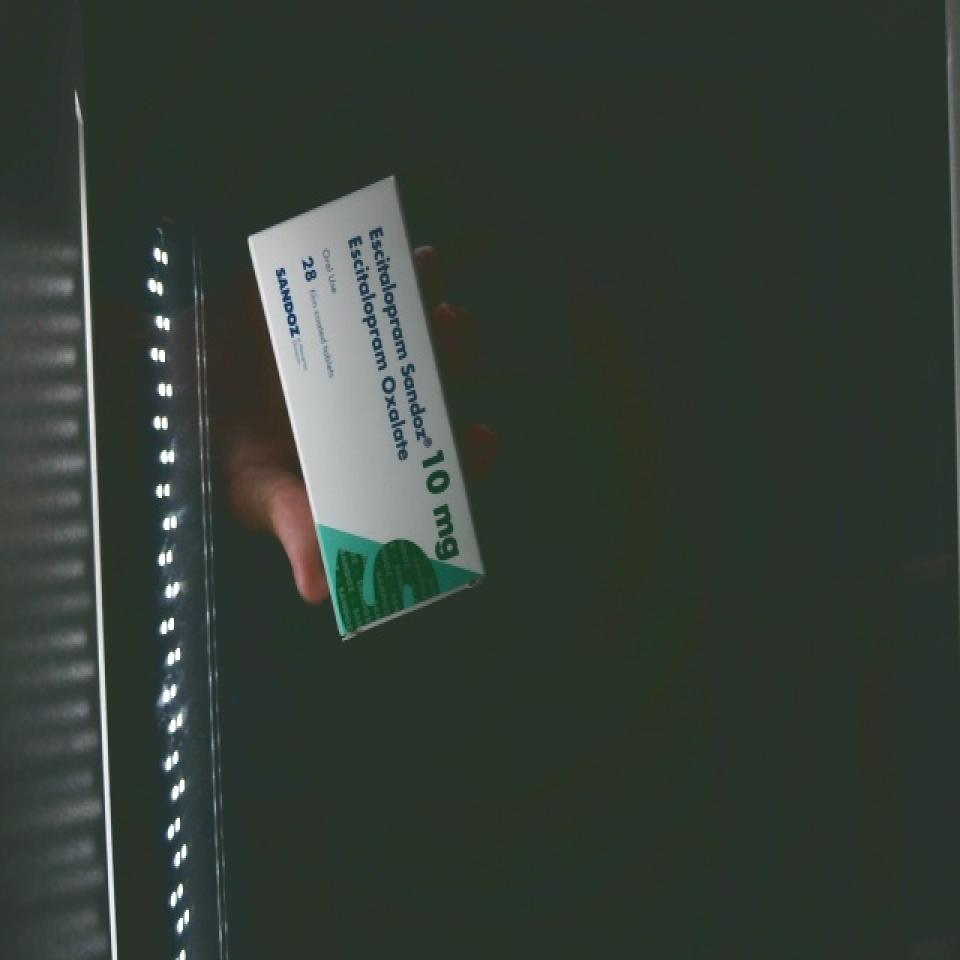medicine_box: (238, 177, 496, 642)
medicine_label_obb: (326, 190, 454, 480)
